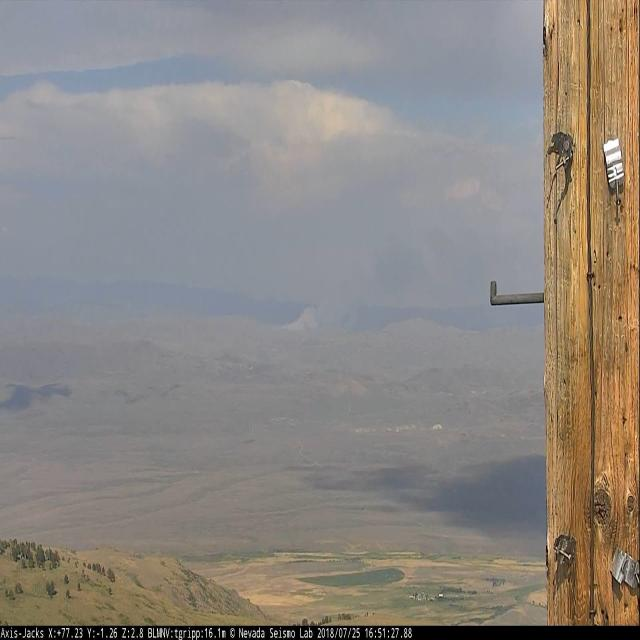smoke: (285, 234, 425, 335)
